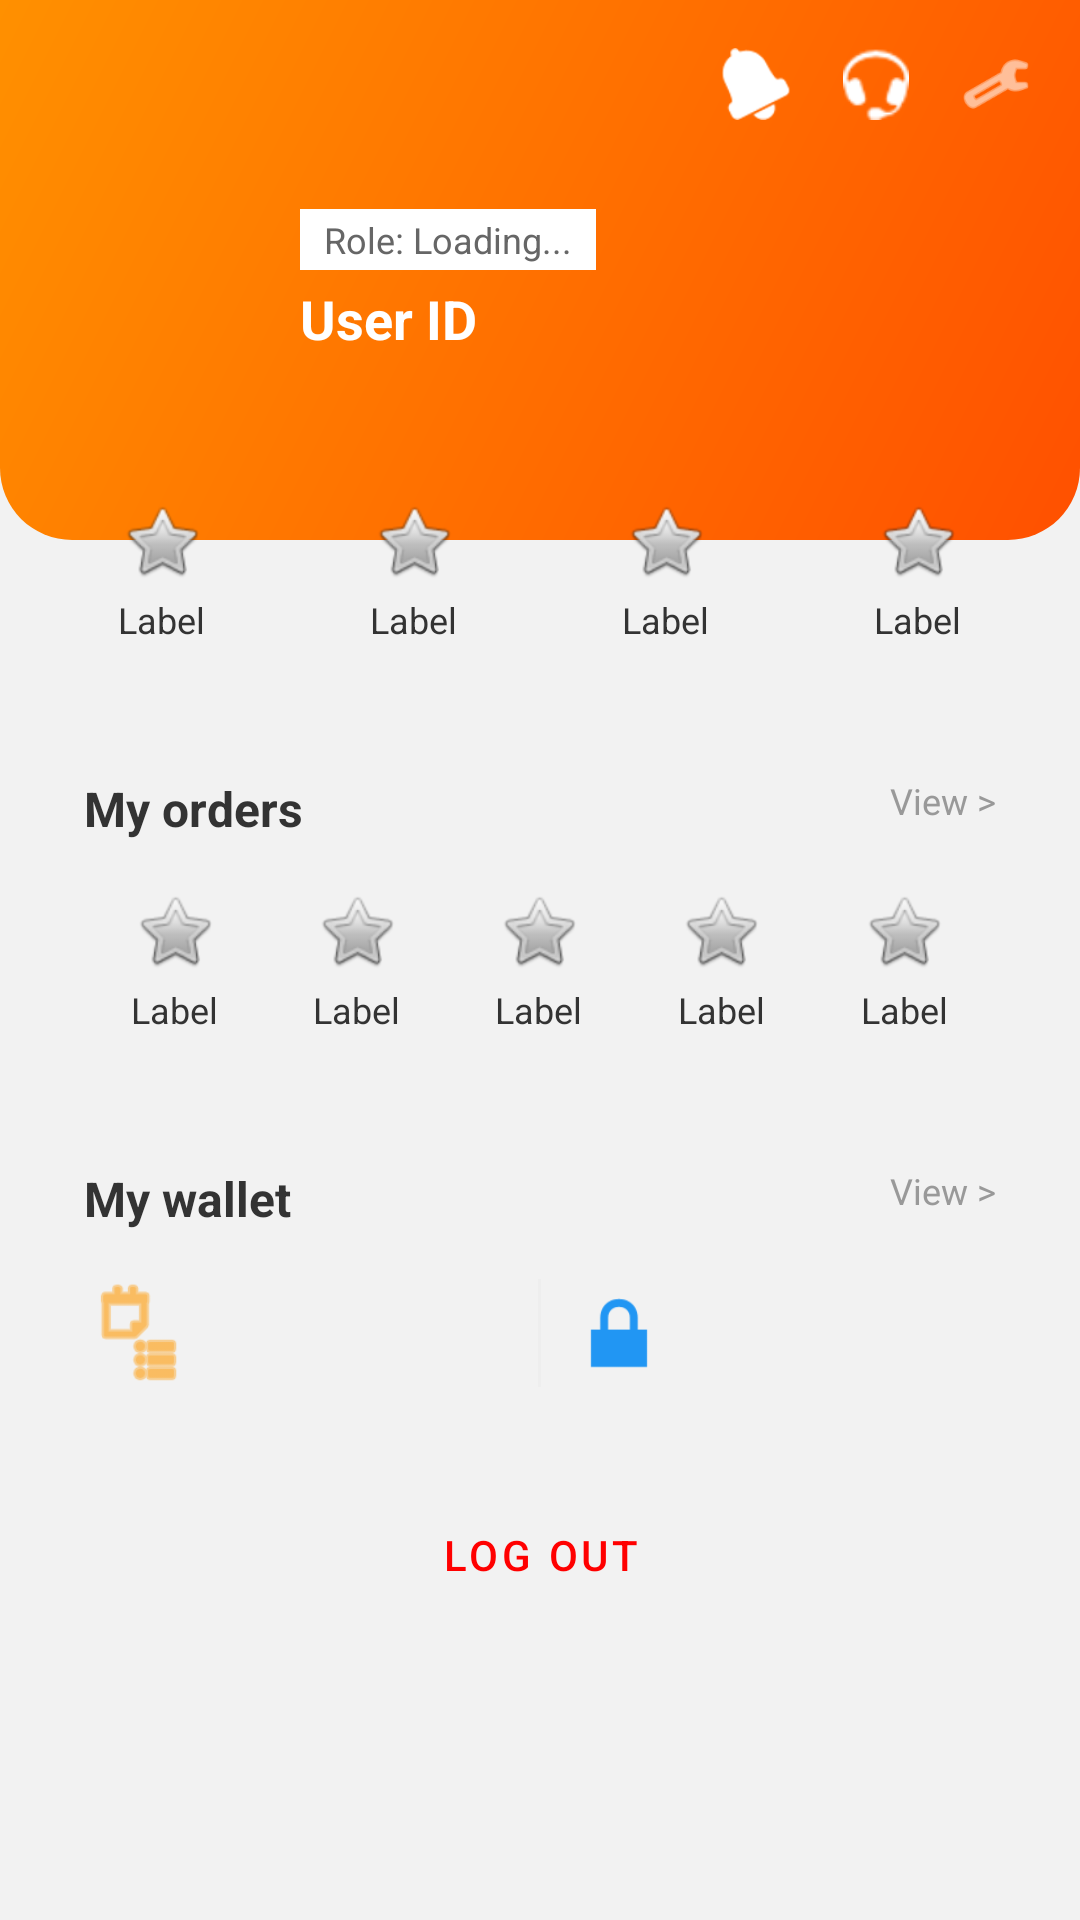

Locate icon controls on the screen. Image size 1080*1920, boxes as (x1, y1, x2, y2).
agenda: (101, 1284, 177, 1381)
headset: (843, 49, 909, 120)
lock: (590, 1298, 648, 1368)
manage: (963, 59, 1028, 109)
popup reminder: (722, 48, 790, 120)
